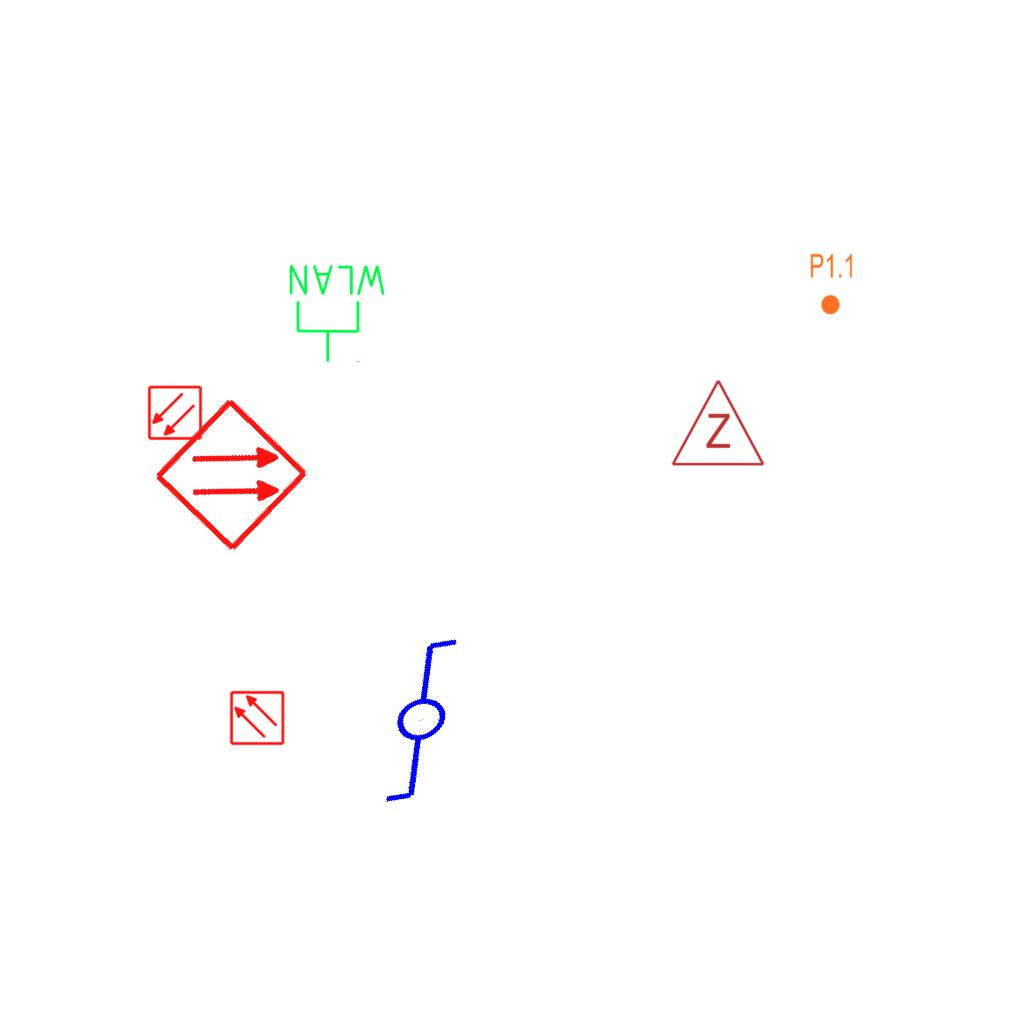Downlight_LED_Einbauleuchten_Flur: (809, 252, 855, 316)
RMO_Rauchmelder_optischer: (151, 394, 312, 555), (229, 690, 285, 746), (147, 385, 203, 441)
WLAN: (285, 261, 390, 365)
Wechselschalter: (327, 619, 532, 817)
Zimmersignalleuchte: (668, 373, 766, 473)
